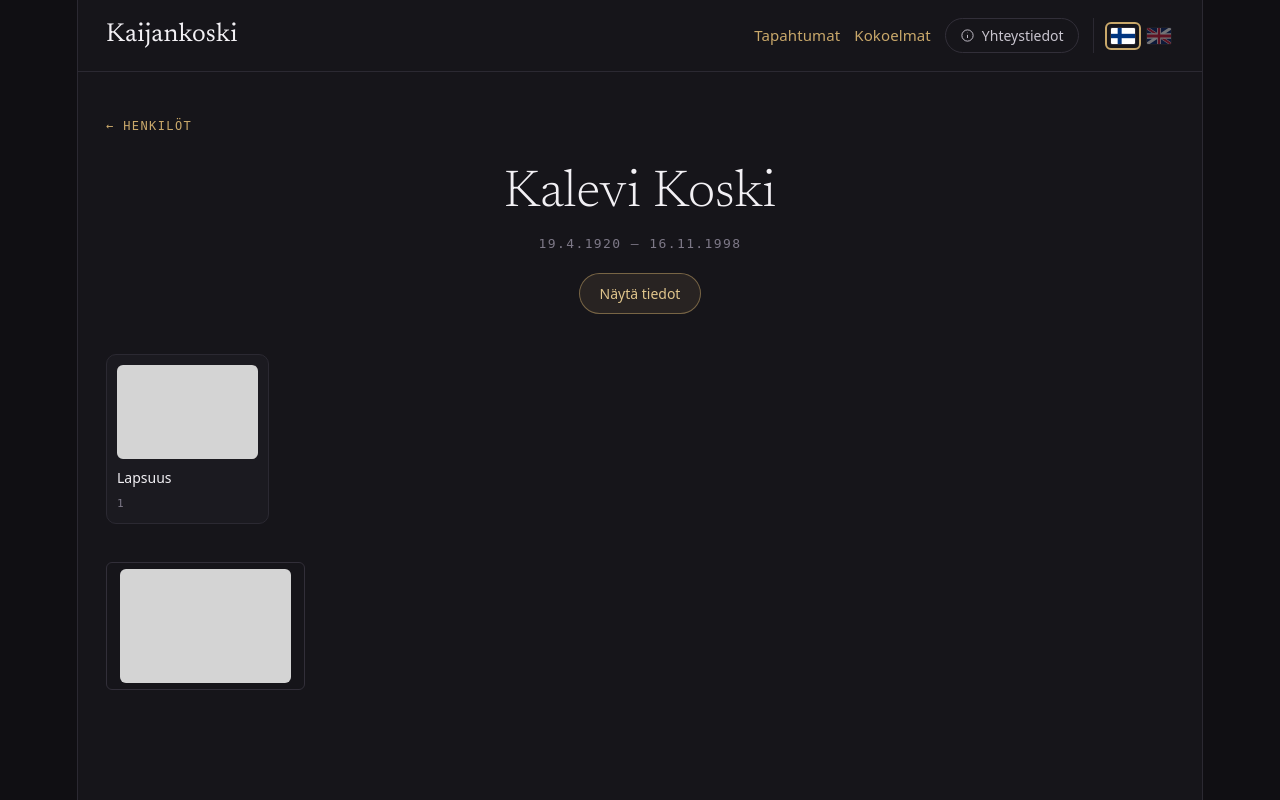
it: PersonPage › opens a folder on click and returns with the back button
The width and height of the screenshot is (1280, 800).
Check: the heading "Kalevi Koski" is shown, box [504,168,776,220]
Click the button "Lapsuus 1" at (188, 439), box [106,354,269,524]
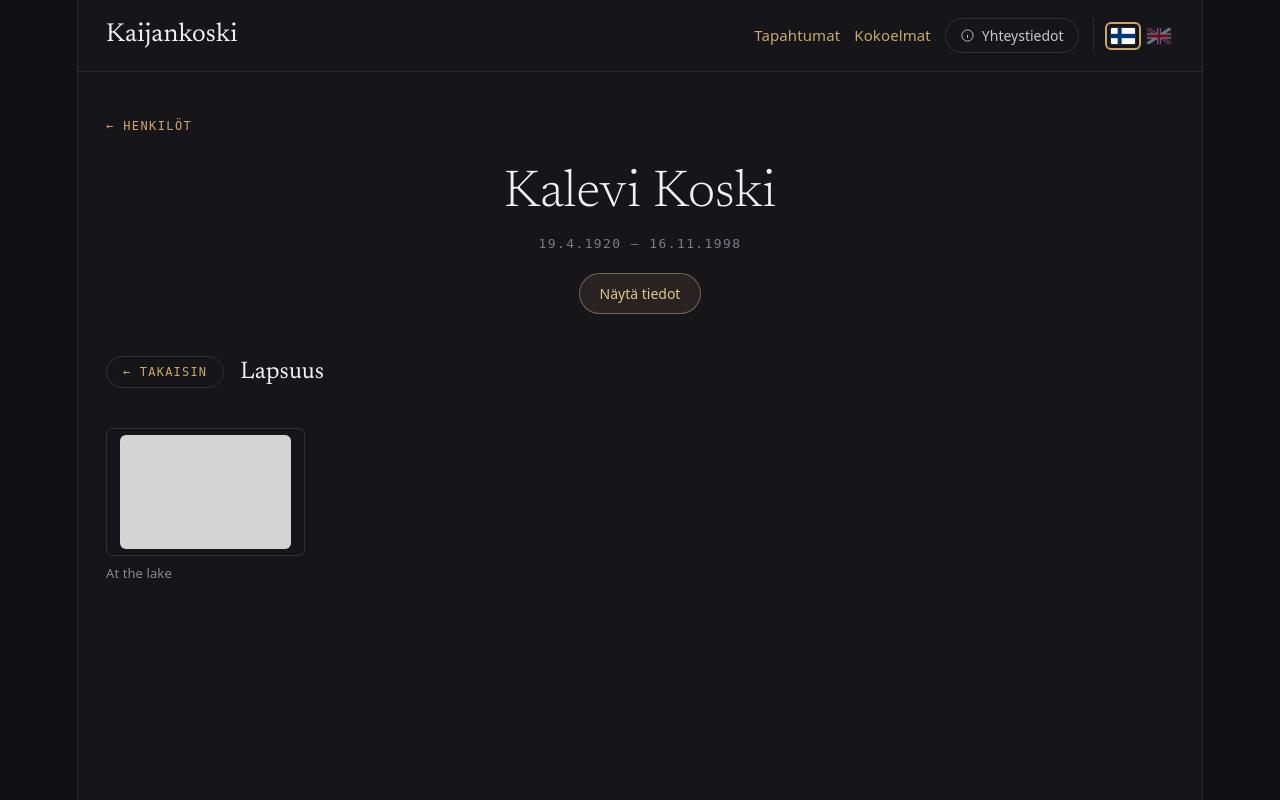
Check: the heading "Lapsuus" is shown, box [240,354,324,390]
Check: the button with class "folder-card" is gone
Click the button "← Takaisin" at (165, 372), box [106,356,224,388]
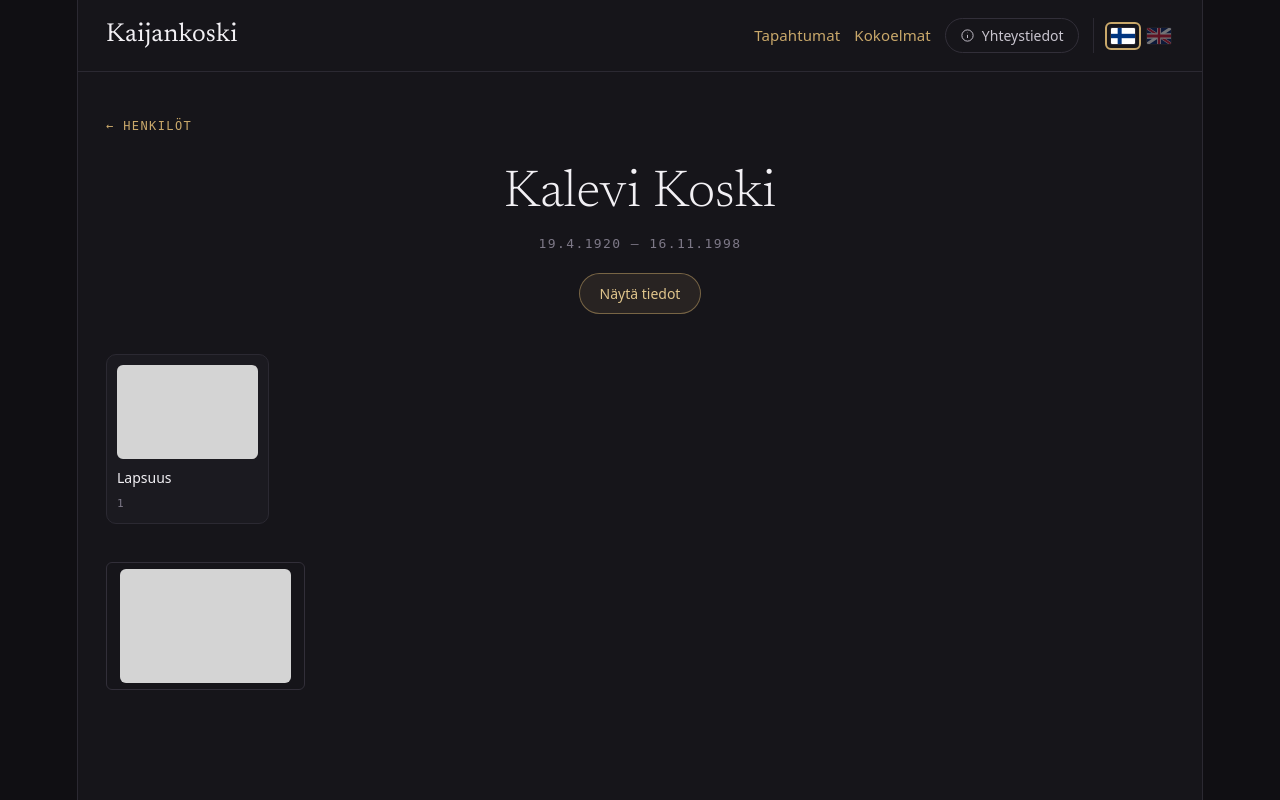
Check: the button "Lapsuus 1" is shown, box [106,354,269,524]
